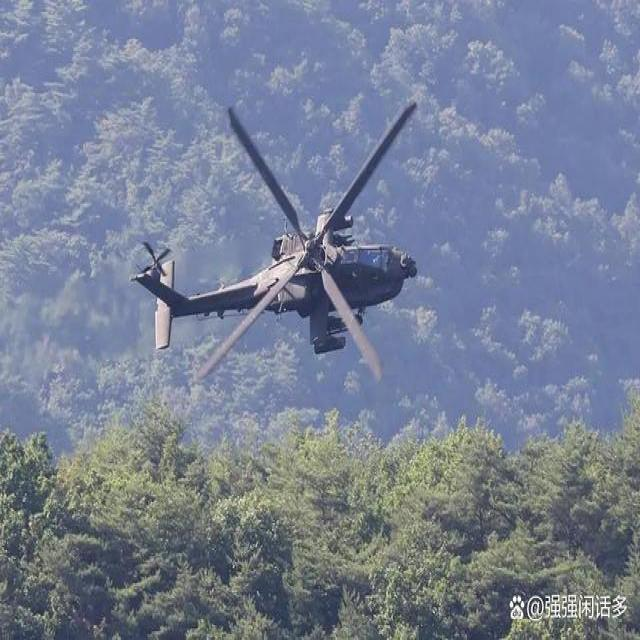MIL_HELO: (90, 100, 464, 412)
